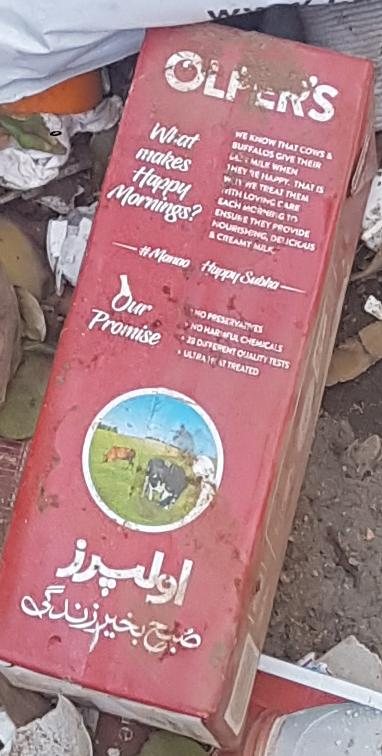paper: (0, 17, 379, 747)
